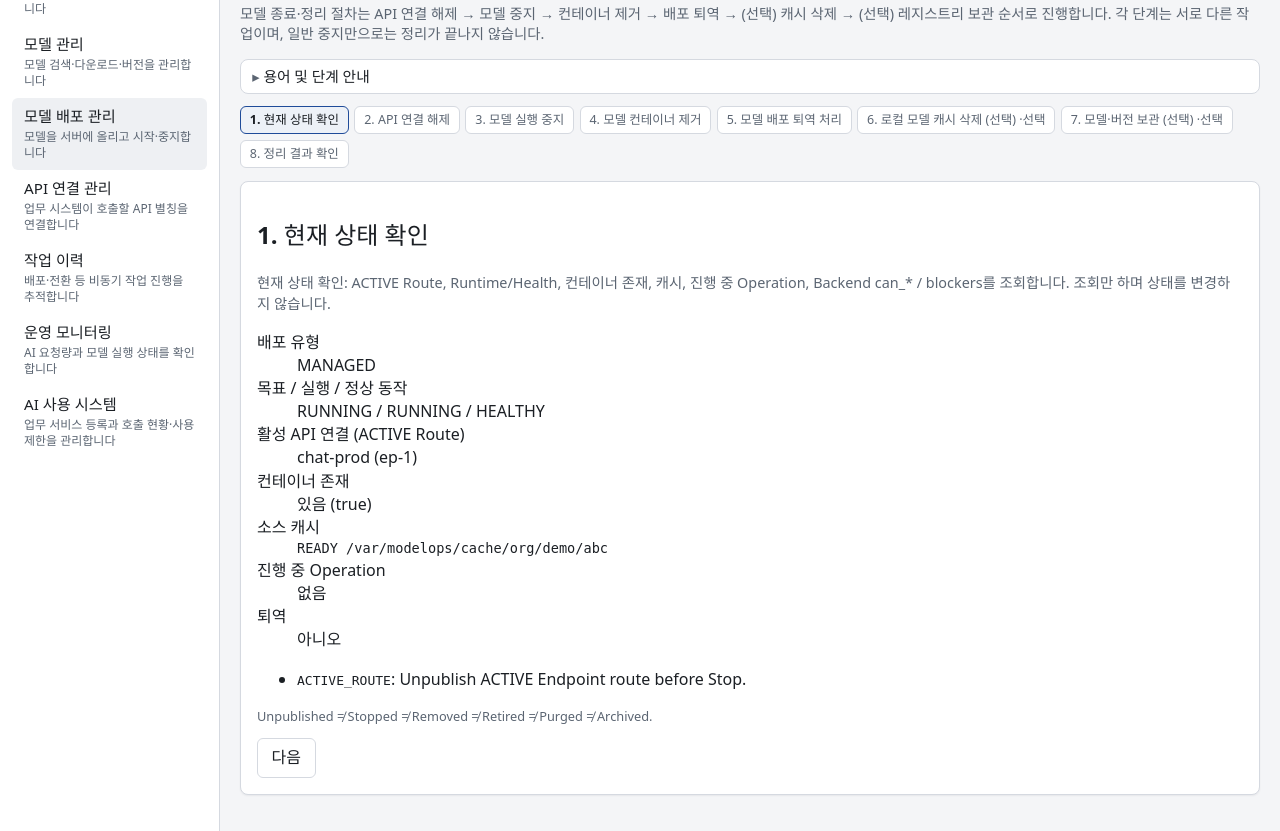
Test: DecommissionWizardPage › forces Unpublish first when active route exists
(page scrolled)
Expected: the heading "1. 현재 상태 확인" is shown, [257, 218, 429, 251]
Click the button "다음" at [286, 758], box [257, 738, 316, 778]
(page scrolled)
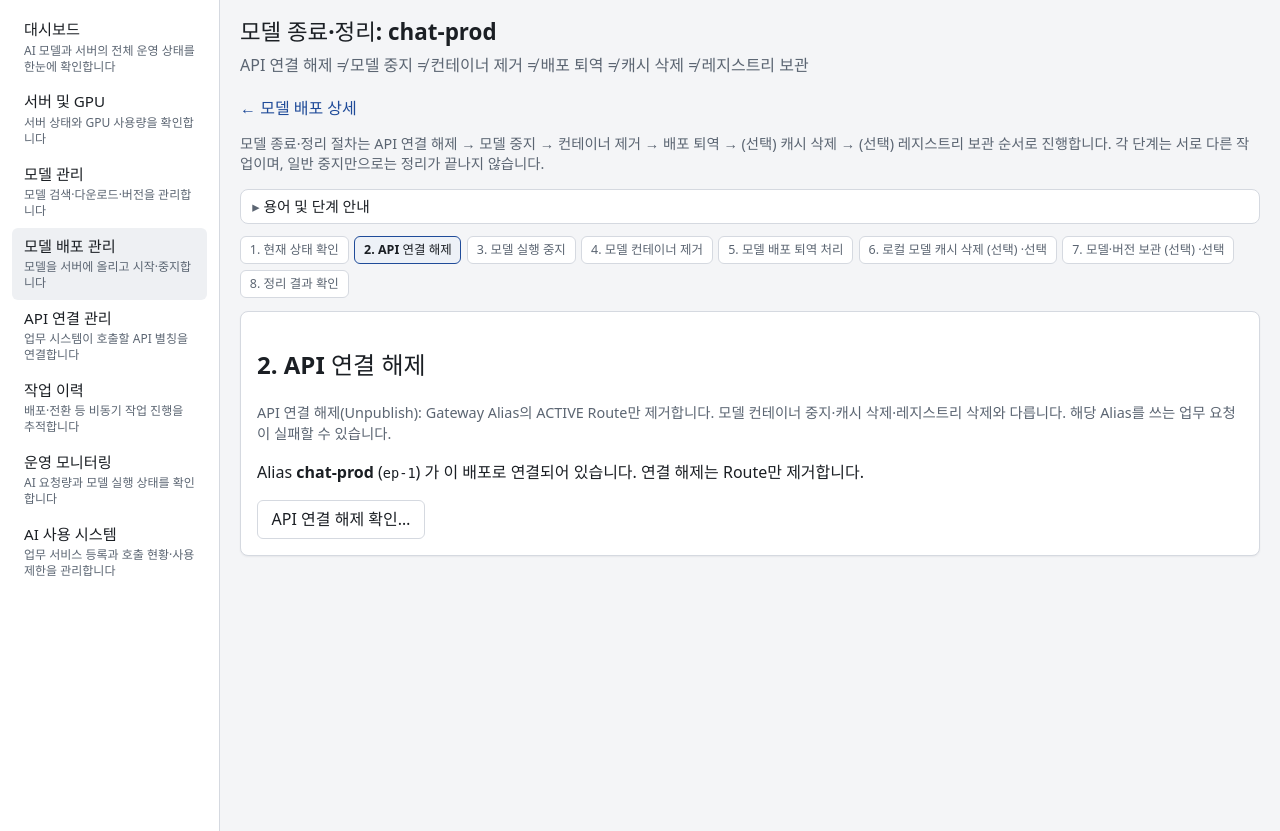
Expected: the text "chat-prod" is shown, [296, 460, 374, 482]
Expected: the heading "2. API 연결 해제" is shown, [257, 348, 426, 381]
Expected: the button "API 연결 해제 확인…" is shown, [257, 500, 425, 539]
